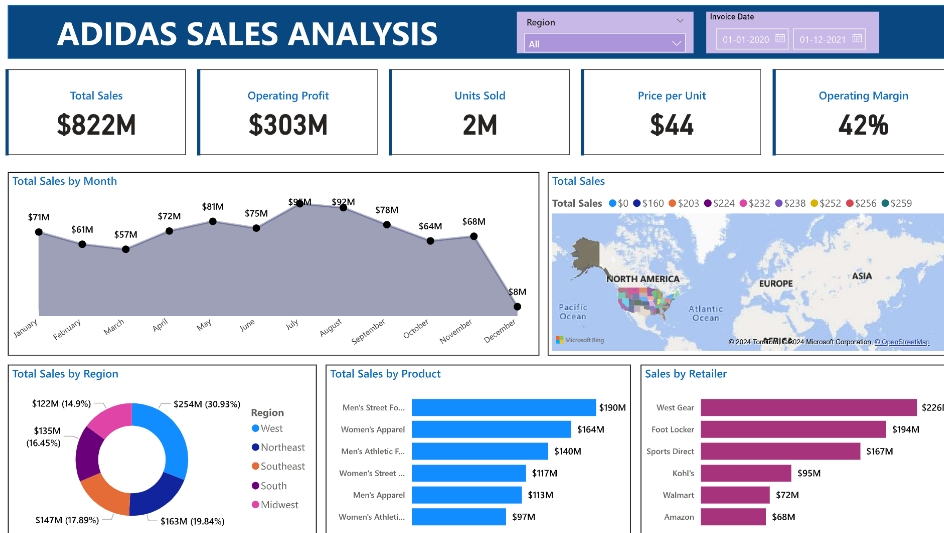

Layout of this report page (visuals, bound fields, positions):
{"tool":"powerbi","page":{"name":"Page 1","canvas":[1280,720],"ordinal":0},"visuals":[{"type":"shape","box":[0,0,1254.1,80.5],"z":0},{"type":"textbox","box":[158,0,526.8,80.5],"z":1000},{"type":"cardVisual","fields":{"Data":["Sum(Data Sales Adidas.Total Sales)","Sum(Data Sales Adidas.Operating Profit)","Sum(Data Sales Adidas.Units Sold)","Avg(Data Sales Adidas.Price per Unit)","Avg(Data Sales Adidas.Operating Margin)"]},"box":[4.4,90.7,1268.8,125.9],"z":2000},{"type":"stackedAreaChart","title":"Total Sales by Month","fields":{"Category":["Data Sales Adidas.Invoice Date.Variation.Date Hierarchy.Month"],"Y":["Sum(Data Sales Adidas.Total Sales)"]},"box":[11.7,216.6,724.4,260.5],"z":3000},{"type":"map","title":"Total Sales by State","fields":{"Category":["Data Sales Adidas.State"],"Size":["Sum(Data Sales Adidas.Operating Margin)"]},"box":[747.8,216.6,518,260.5],"z":4000},{"type":"donutChart","title":"Total Sales by Region","fields":{"Category":["Data Sales Adidas.Region"],"Y":["Sum(Data Sales Adidas.Total Sales)"]},"box":[11.7,487.3,364.4,221],"z":5000},{"type":"barChart","title":" Total Sales by Product","fields":{"Category":["Data Sales Adidas.Product"],"Y":["Sum(Data Sales Adidas.Total Sales)"]},"box":[387.8,487.3,430.2,221],"z":6000},{"type":"barChart","title":" Total Sales by Retailers","fields":{"Y":["Sum(Data Sales Adidas.Total Sales)"],"Category":["Data Sales Adidas.Retailer"]},"box":[829.8,487.3,436.1,221],"z":7000},{"type":"slicer","fields":{"Values":["Data Sales Adidas.Region"]},"box":[775.6,7.3,193.2,67.3],"z":8000},{"type":"slicer","fields":{"Values":["Data Sales Adidas.Invoice Date"]},"box":[989.3,7.3,231.2,67.3],"z":9000},{"type":"image","box":[30.7,0,112.7,73.2],"z":9001}]}

Visuals, with their boxes in screenshot pixels (x1, y1, x2, y2), scaled from the page's 1280x720 canvas onto the 944x533 screenshot:
shape: bbox(0, 0, 925, 60)
textbox: bbox(117, 0, 505, 60)
cardVisual - Sum(Data Sales Adidas.Total Sales) x Sum(Data Sales Adidas.Operating Profit): bbox(3, 67, 939, 160)
"Total Sales by Month" stackedAreaChart: bbox(9, 160, 543, 353)
"Total Sales by State" map: bbox(552, 160, 934, 353)
"Total Sales by Region" donutChart: bbox(9, 361, 277, 524)
" Total Sales by Product" barChart: bbox(286, 361, 603, 524)
" Total Sales by Retailers" barChart: bbox(612, 361, 934, 524)
slicer - Data Sales Adidas.Region: bbox(572, 5, 714, 55)
slicer - Data Sales Adidas.Invoice Date: bbox(730, 5, 900, 55)
image: bbox(23, 0, 106, 54)
